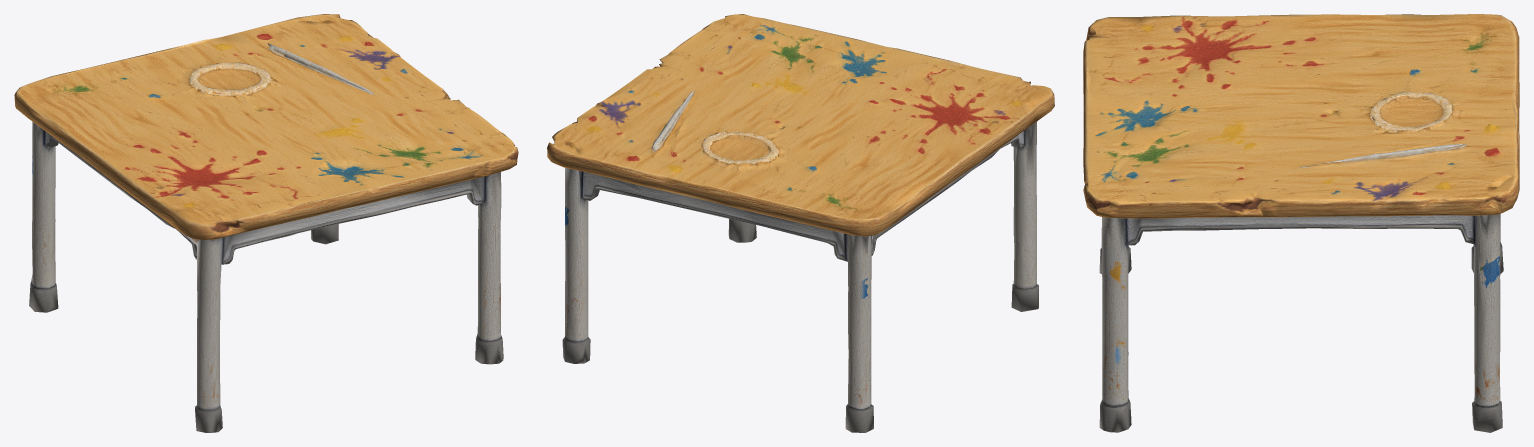
The model's file is ArtRoomTable.fbx.
3 renders of one model, left to right at view 1: azimuth 30°, elevation 25°; view 2: azimuth 150°, elevation 25°; view 3: azimuth 270°, elevation 25°, orthographic. The views are drawn at different scales.
Parts seen in each view (by area): view 1: tripo_node_ef29ec5b-4c7d-48bf-869f-adfff3b68bd6; view 2: tripo_node_ef29ec5b-4c7d-48bf-869f-adfff3b68bd6; view 3: tripo_node_ef29ec5b-4c7d-48bf-869f-adfff3b68bd6.
Part boxes in pixels (left/top/right/bottom): tripo_node_ef29ec5b-4c7d-48bf-869f-adfff3b68bd6: left=14, top=14, right=518, bottom=432; tripo_node_ef29ec5b-4c7d-48bf-869f-adfff3b68bd6: left=547, top=14, right=1054, bottom=432; tripo_node_ef29ec5b-4c7d-48bf-869f-adfff3b68bd6: left=1083, top=14, right=1519, bottom=432.
Bounding box in the file's own units: 99.91 × 62.42 × 100.
Materials: 1 (1 with a texture image).
